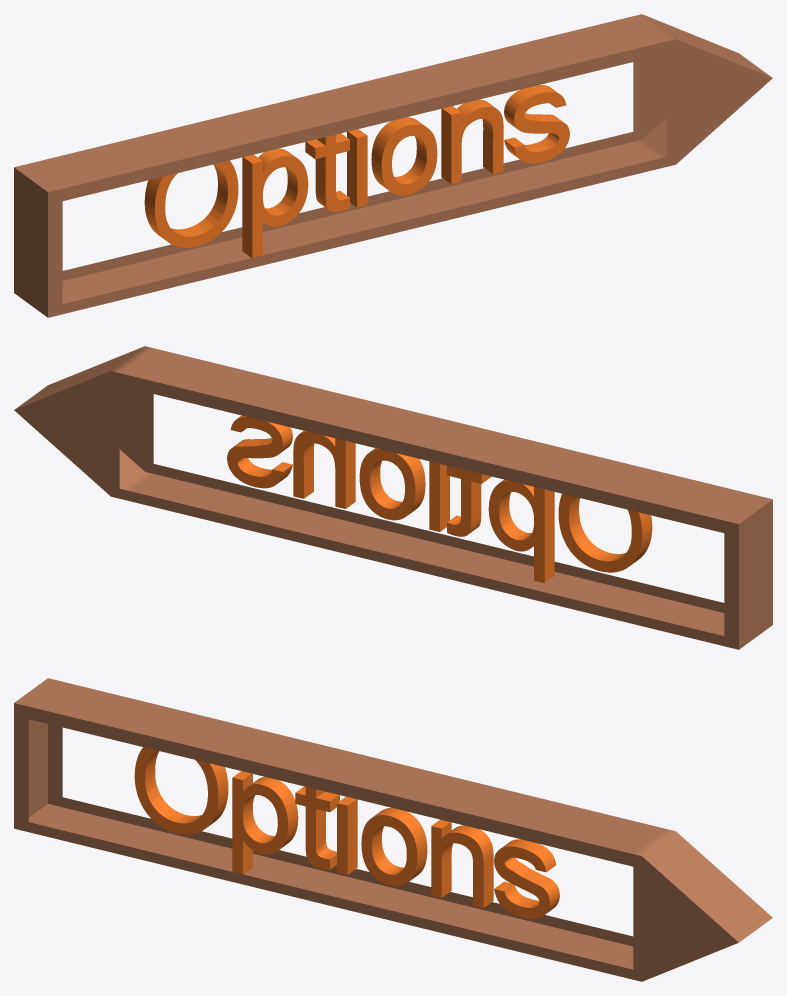
File: Menu_Option.obj
3 renders of one model, top to bottom at view 1: azimuth 30°, elevation 25°; view 2: azimuth 150°, elevation 25°; view 3: azimuth 330°, elevation 25°, orthographic.
Visible parts, largest first — view 1: polySurface30; view 2: polySurface30; view 3: polySurface30.
Boxes of the visible parts, bbox=[...] form: polySurface30: bbox=[14, 14, 772, 317]; polySurface30: bbox=[14, 346, 772, 649]; polySurface30: bbox=[14, 678, 772, 981].
Size of the model in its own units: 6.04 by 1 by 0.4907.
2 materials, 2 textured.
